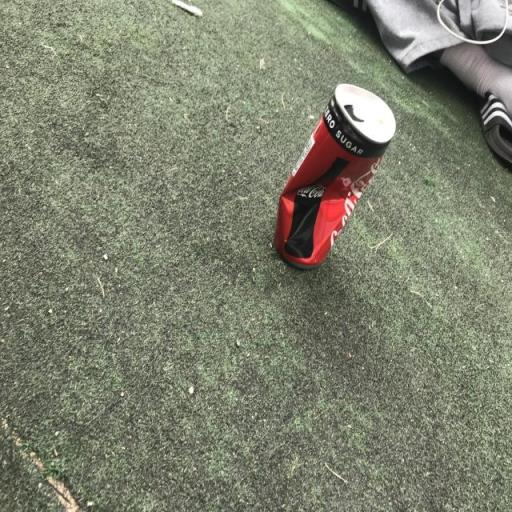metal: (250, 62, 409, 292)
